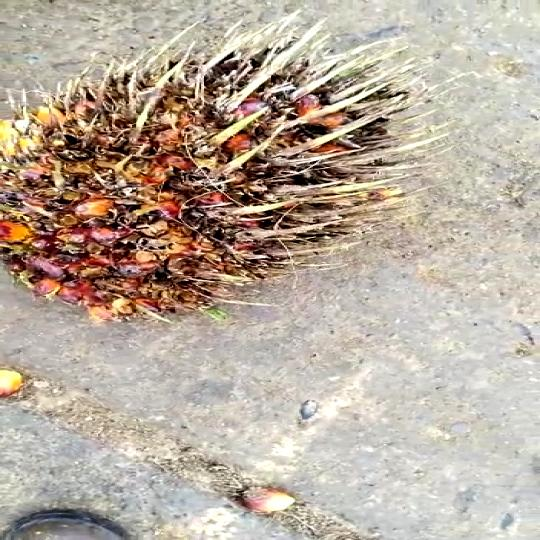terlalu masak: (0, 35, 399, 325)
